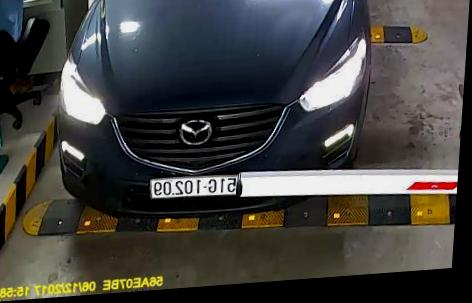License_Plate: (145, 170, 244, 203)
